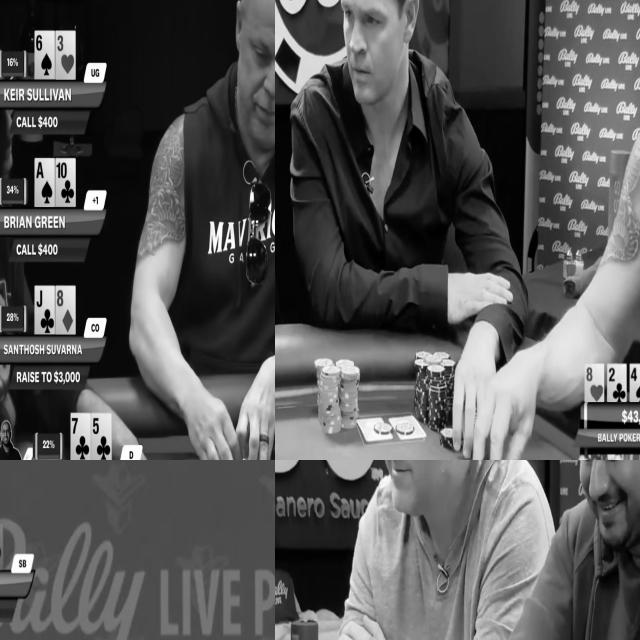10C: (56, 159, 76, 206)
2C: (608, 363, 626, 402)
3H: (56, 32, 75, 80)
4S: (630, 363, 640, 402)
5C: (91, 413, 110, 460)
6S: (36, 32, 54, 80)
7C: (71, 414, 90, 460)
8D: (56, 287, 75, 335)
8H: (585, 364, 604, 402)
AS: (36, 158, 54, 207)
JC: (36, 287, 54, 334)
